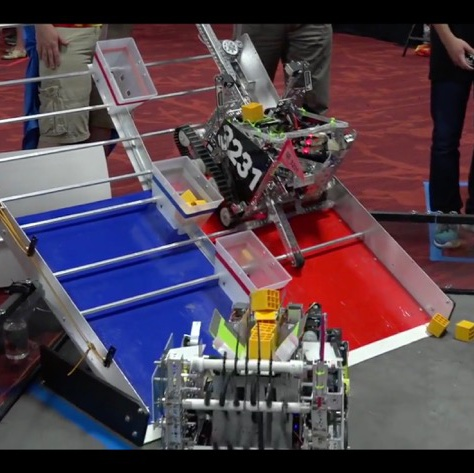robot: (176, 23, 356, 272), (141, 290, 355, 447)
